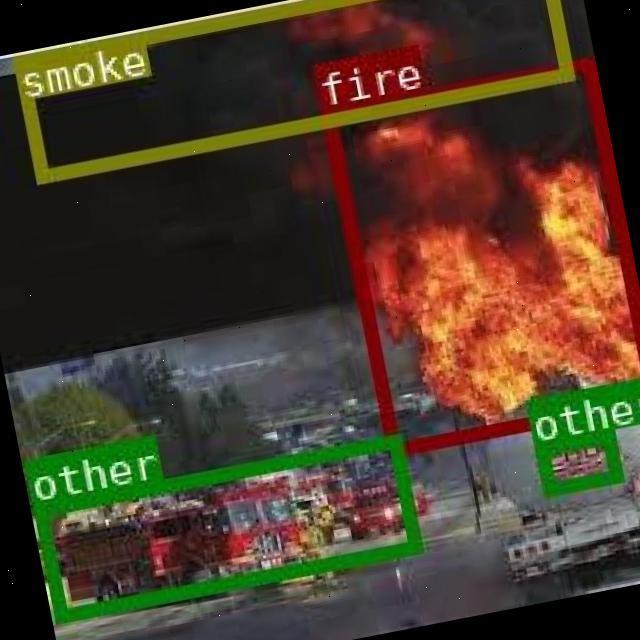fire: (320, 55, 640, 453)
smoke: (11, 0, 571, 181)
